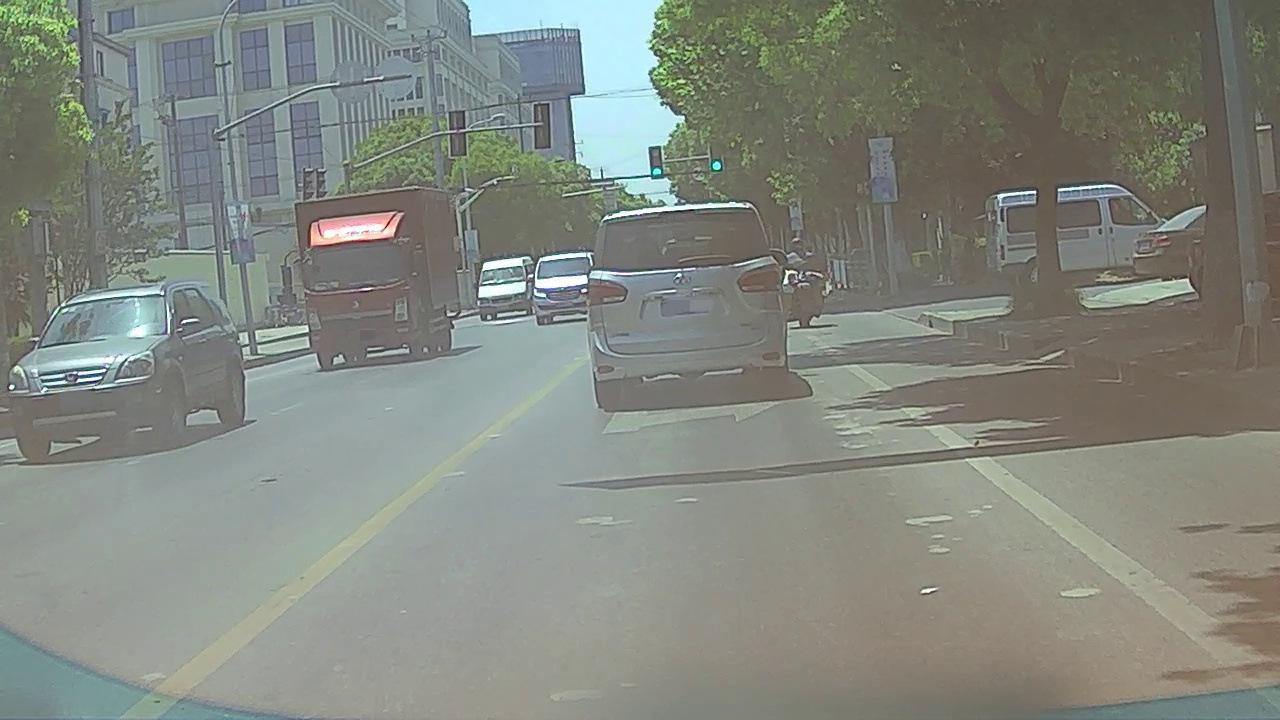traffic_light: (648, 147, 663, 179), (710, 143, 724, 174)
